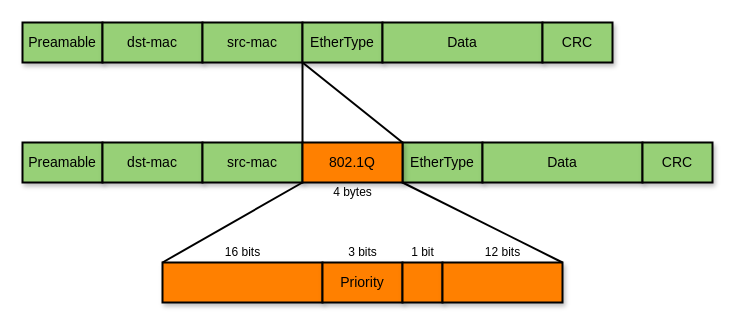
Image size: 736x327. Some labels were removed from this diagram. The centre of each missing label's shape, as x and y in pixels:
"CFI" goes at (x=423, y=283).
"TPID (0x8100)" goes at (x=243, y=283).
"VLAN ID" goes at (x=503, y=283).
